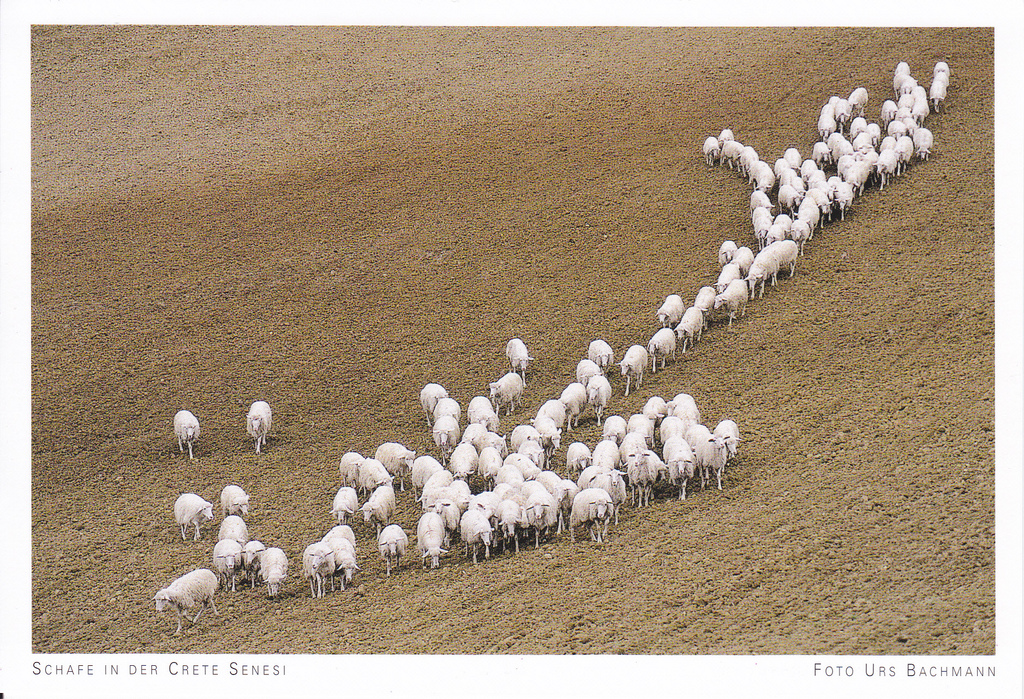sheep: (149, 564, 226, 636), (570, 486, 615, 551), (374, 523, 412, 584), (697, 428, 731, 495), (167, 407, 208, 462), (715, 275, 756, 330), (300, 543, 340, 599), (414, 513, 452, 571), (523, 490, 558, 549), (252, 548, 292, 599), (456, 511, 494, 564), (754, 240, 798, 284), (665, 436, 694, 499), (617, 340, 649, 396), (177, 491, 212, 542), (246, 399, 277, 456), (217, 484, 258, 525), (582, 375, 613, 429), (587, 337, 622, 382), (328, 485, 358, 537), (488, 377, 530, 414), (629, 447, 656, 503), (431, 413, 461, 463), (356, 454, 392, 495), (645, 327, 675, 375), (494, 500, 522, 551), (675, 304, 705, 350), (505, 336, 532, 384), (874, 145, 898, 191), (658, 291, 687, 329), (566, 442, 592, 479), (912, 126, 938, 163), (790, 218, 812, 257), (713, 238, 739, 268), (834, 183, 854, 221), (751, 160, 775, 191), (815, 114, 840, 141), (929, 76, 946, 112), (880, 99, 899, 128)
